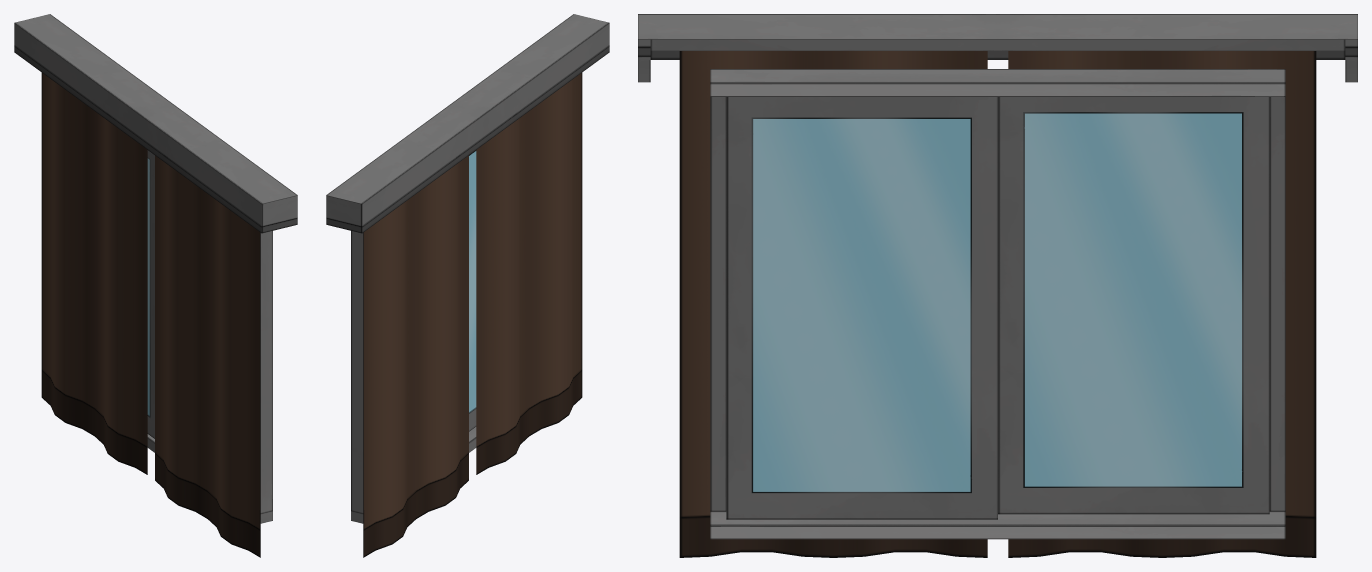
The model's file is window_curtain.fbx.
3 views of the same model, side by side, from view 1: azimuth 30°, elevation 25°; view 2: azimuth 150°, elevation 25°; view 3: azimuth 270°, elevation 25° (orthographic). The views are drawn at different scales.
Parts seen in each view (by area): view 1: polySurface939; view 2: polySurface939; view 3: polySurface939.
Boxes of the visible parts, box(x1,y1,x2,y2) form: polySurface939: box(14, 14, 297, 557); polySurface939: box(326, 14, 609, 557); polySurface939: box(638, 14, 1357, 557).
Size of the model in its own units: 0.1521 by 1.48 by 1.81.
